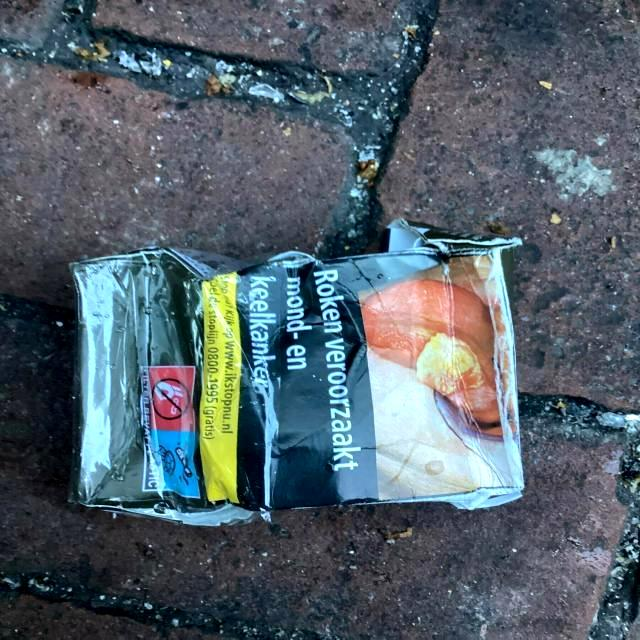Paper: (59, 213, 530, 533)
